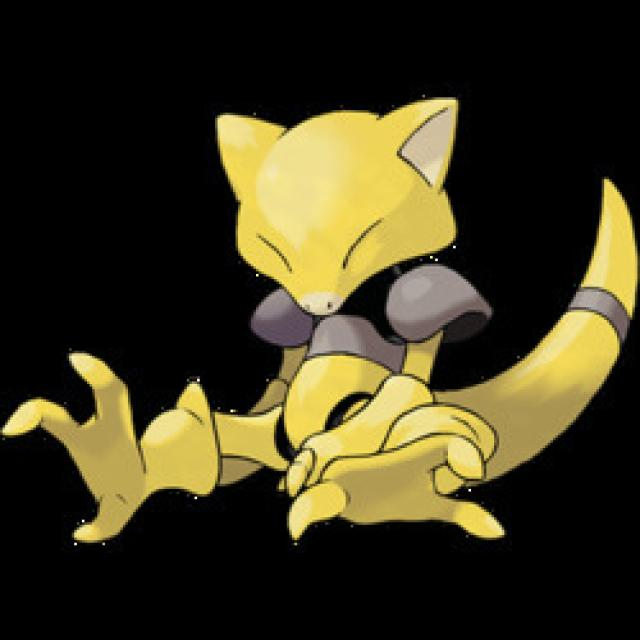Abra: (170, 97, 516, 550)
